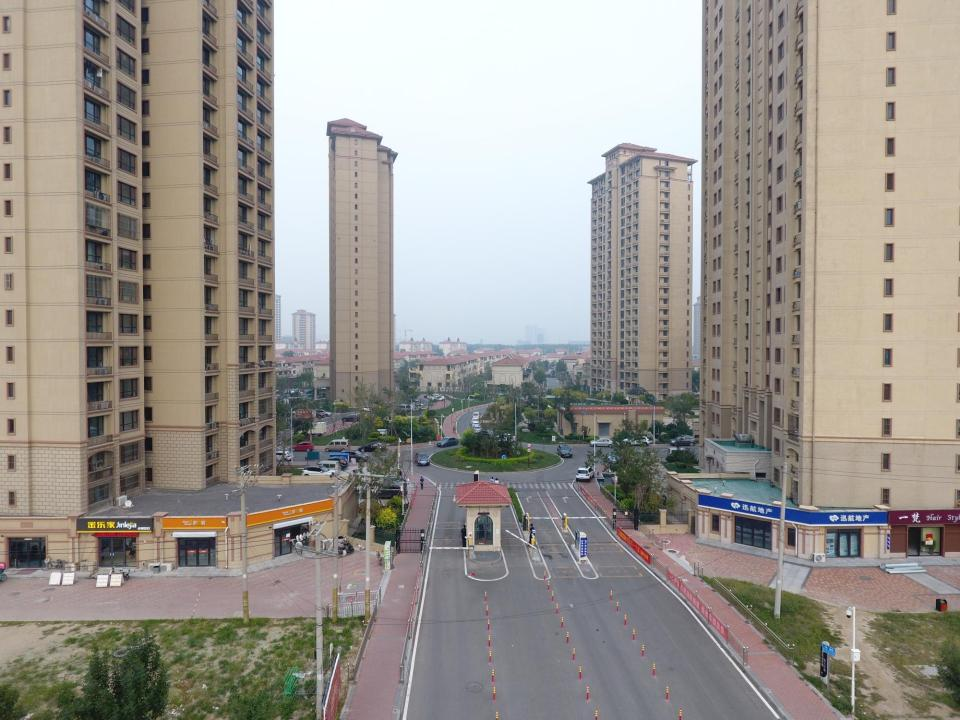car: (362, 474, 408, 500), (301, 465, 335, 481), (315, 456, 349, 470), (340, 449, 368, 462), (622, 434, 649, 447), (669, 434, 696, 446), (268, 450, 294, 462), (576, 466, 594, 482), (358, 442, 386, 452), (589, 437, 613, 448), (290, 441, 314, 452), (607, 450, 627, 463), (436, 437, 459, 447), (557, 444, 572, 458), (414, 452, 430, 465), (474, 429, 494, 438), (494, 434, 516, 442), (306, 411, 325, 418), (314, 410, 332, 417), (341, 414, 359, 421), (363, 406, 377, 412), (413, 404, 427, 410), (431, 396, 445, 402), (405, 405, 417, 411), (472, 426, 482, 433), (430, 394, 441, 400), (472, 422, 480, 429), (470, 418, 478, 424), (426, 394, 438, 398), (424, 394, 435, 398), (412, 396, 419, 402)
truck: (297, 421, 327, 437), (289, 408, 316, 421)
van: (315, 460, 341, 476), (667, 448, 692, 461), (325, 439, 350, 452), (394, 404, 410, 412), (472, 412, 480, 420)
